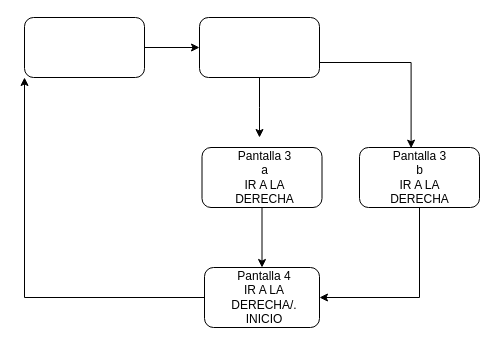
The diagram is 497 pixels wide and 345 high, and some of its shapes have lost their labels. The shapes that lost their labels are listed below. From the top down, each one's centre as x and y in pixels, then its label:
At (x=84, y=47): "Pantalla 1 IR A LA DERECHA".
At (x=259, y=47): "Pantalla 2 DERECHA O IZQUIEDA".
